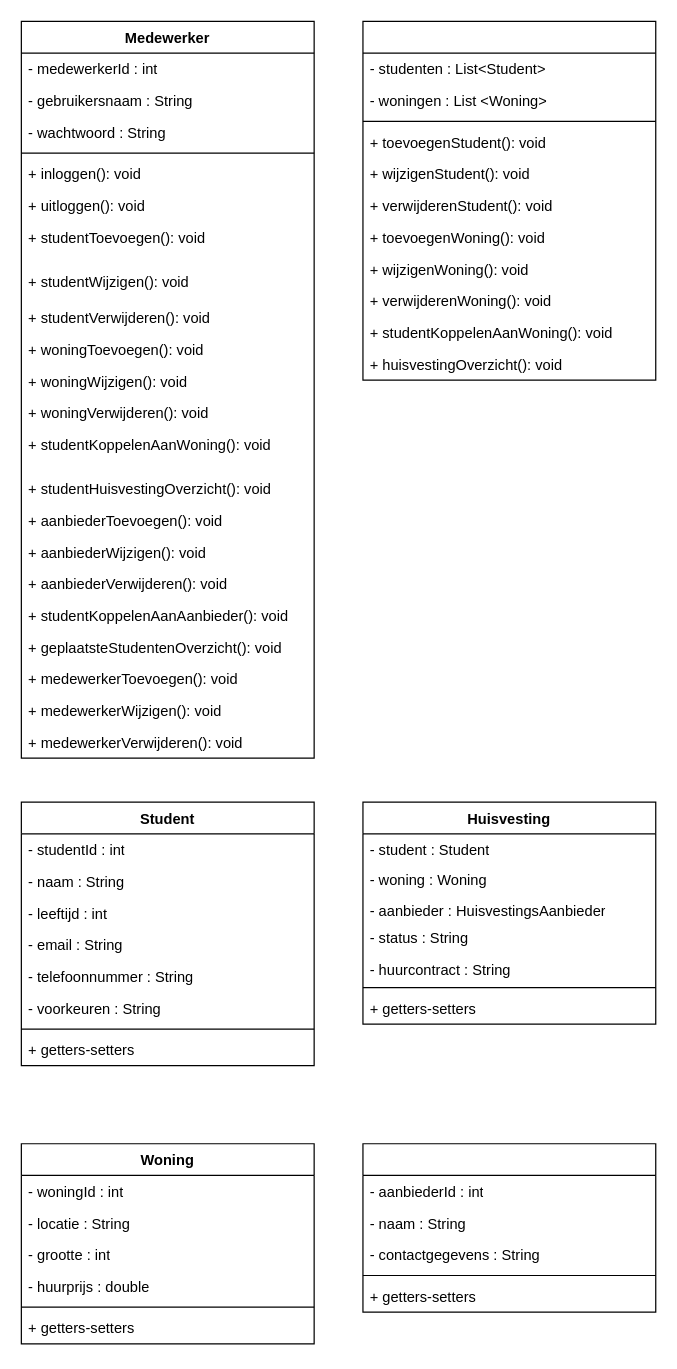
This 677x1369 diagram has some shape labels left out. Here are the shapes that lost their labels. From the top down, the box of each, then its label:
(362, 20, 656, 380): HuisvestingsLijst
(362, 1143, 656, 1312): HuisvestingsAanbieder
